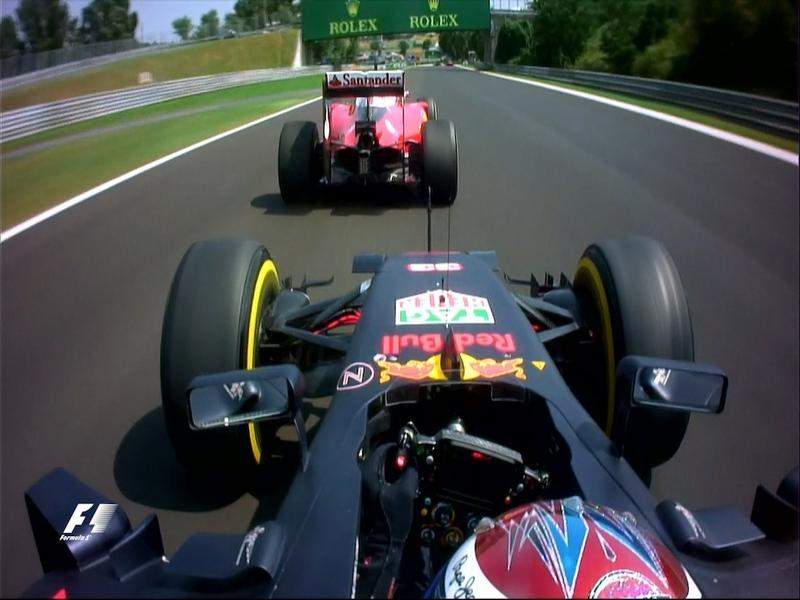racecar: (276, 67, 463, 201)
